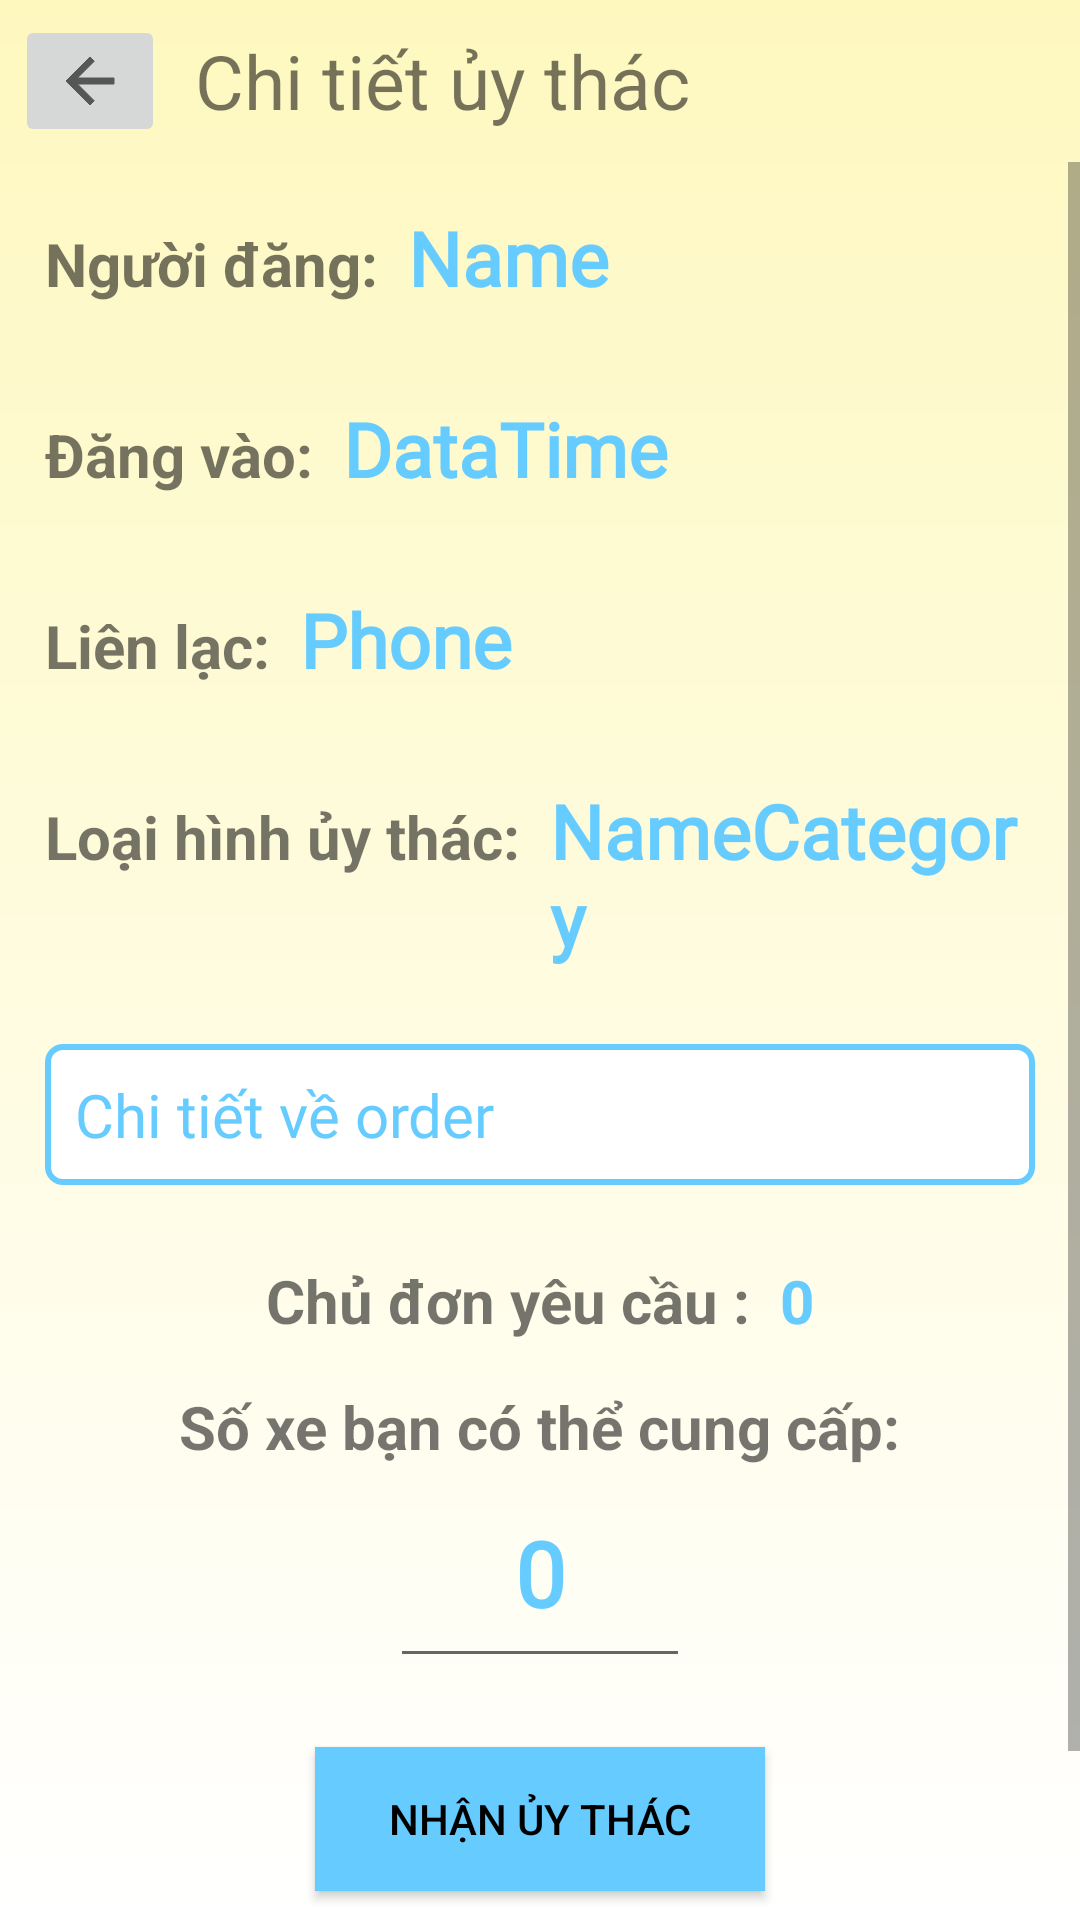

Point at icon controls on the screen. Image size 1080×1920, points as point (x, y).
arrow back: point (90, 81)
